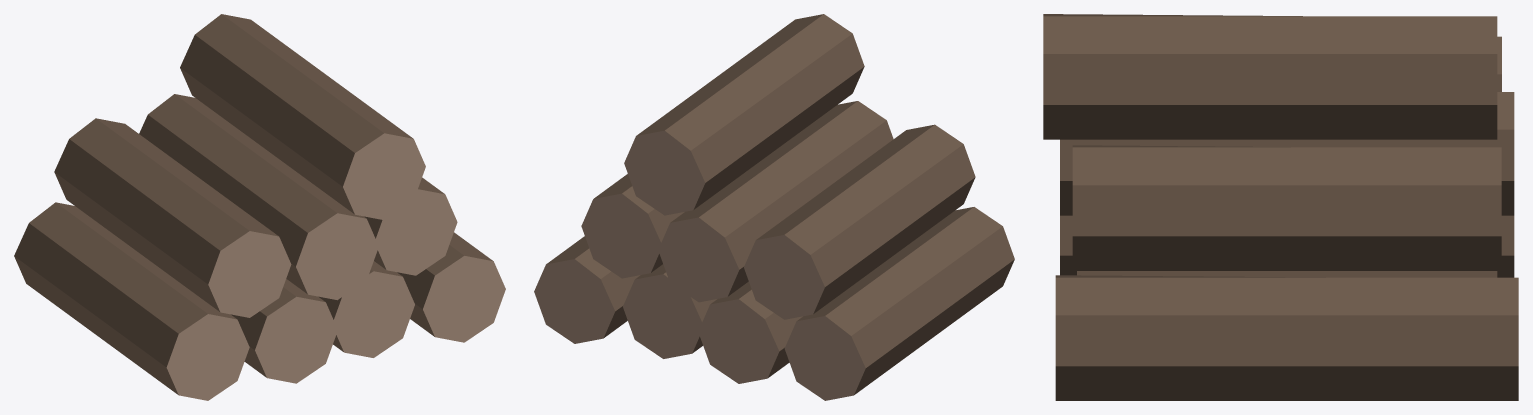
Rendered from Logs.fbx.
3 views of the same model, side by side, from view 1: azimuth 30°, elevation 25°; view 2: azimuth 150°, elevation 25°; view 3: azimuth 270°, elevation 25° (orthographic). The views are drawn at different scales.
Parts seen in each view (by area): view 1: Logs; view 2: Logs; view 3: Logs.
Part boxes in pixels (x1=…): Logs: x1=14, y1=14, x2=505, y2=400; Logs: x1=534, y1=14, x2=1014, y2=400; Logs: x1=1043, y1=14, x2=1518, y2=400.
Bounding box in the file's own units: 55.18 × 49.05 × 37.37.
